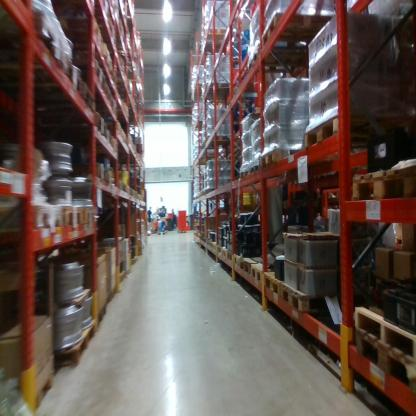pallet: (5, 14, 71, 77), (351, 300, 415, 364), (354, 332, 415, 396), (263, 10, 353, 53), (13, 56, 82, 105), (349, 154, 416, 204), (301, 116, 386, 154), (244, 41, 321, 80), (3, 194, 64, 242), (47, 318, 94, 366), (283, 281, 351, 314), (25, 357, 70, 406), (256, 143, 306, 172), (51, 83, 96, 112), (263, 268, 301, 297), (80, 45, 104, 83), (201, 22, 241, 41), (63, 204, 87, 229), (252, 262, 278, 284), (201, 80, 235, 94), (242, 255, 261, 275), (245, 154, 262, 176), (82, 202, 96, 227), (92, 117, 107, 138), (203, 131, 229, 143), (238, 162, 248, 186), (234, 252, 248, 269), (223, 53, 241, 62), (212, 245, 222, 258), (227, 251, 236, 263), (221, 246, 227, 260)
